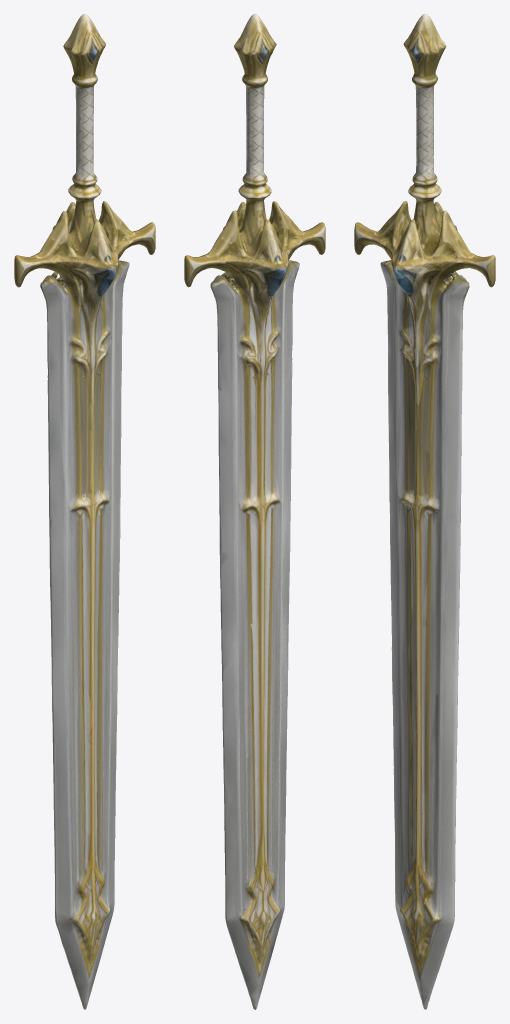
File: Meshy_AI_Azure_Starblade_0711122450_texture.fbx
3 renders of one model, left to right at view 1: azimuth 30°, elevation 25°; view 2: azimuth 210°, elevation 25°; view 3: azimuth 330°, elevation 25°, orthographic.
Visible parts, largest first — view 1: Mesh1.0; view 2: Mesh1.0; view 3: Mesh1.0.
Part boxes in pixels (x1,y1,x2,y2): Mesh1.0: [14, 14, 155, 1009]; Mesh1.0: [184, 14, 325, 1009]; Mesh1.0: [354, 14, 495, 1009].
Bounding box in the file's own units: 23.49 × 160 × 17.69.
1 material, 1 textured.
